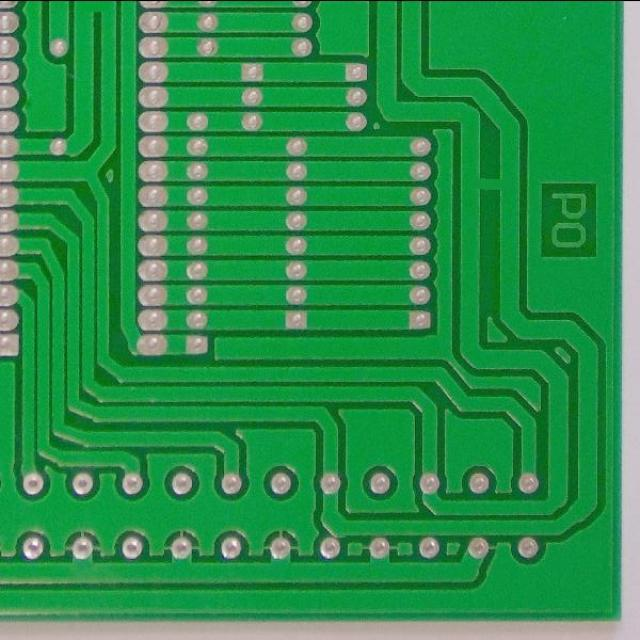Short_Circuit: (456, 164, 524, 206), (70, 0, 120, 25)
